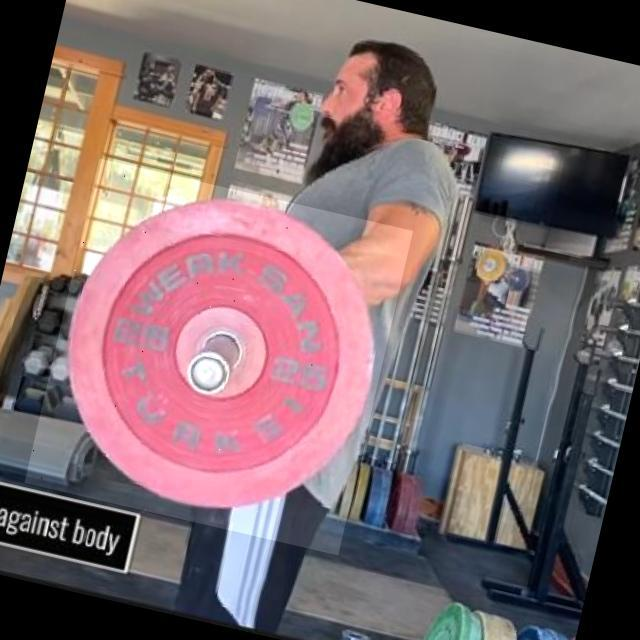barbell: (25, 159, 414, 556)
